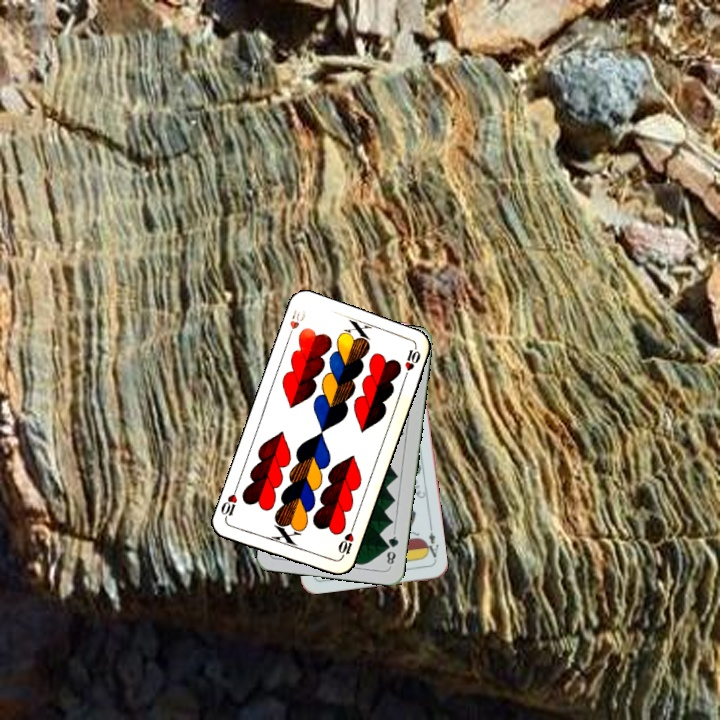EA: (421, 523, 441, 564)
G8: (382, 529, 401, 569)
H10: (283, 304, 309, 343), (334, 522, 357, 562)
